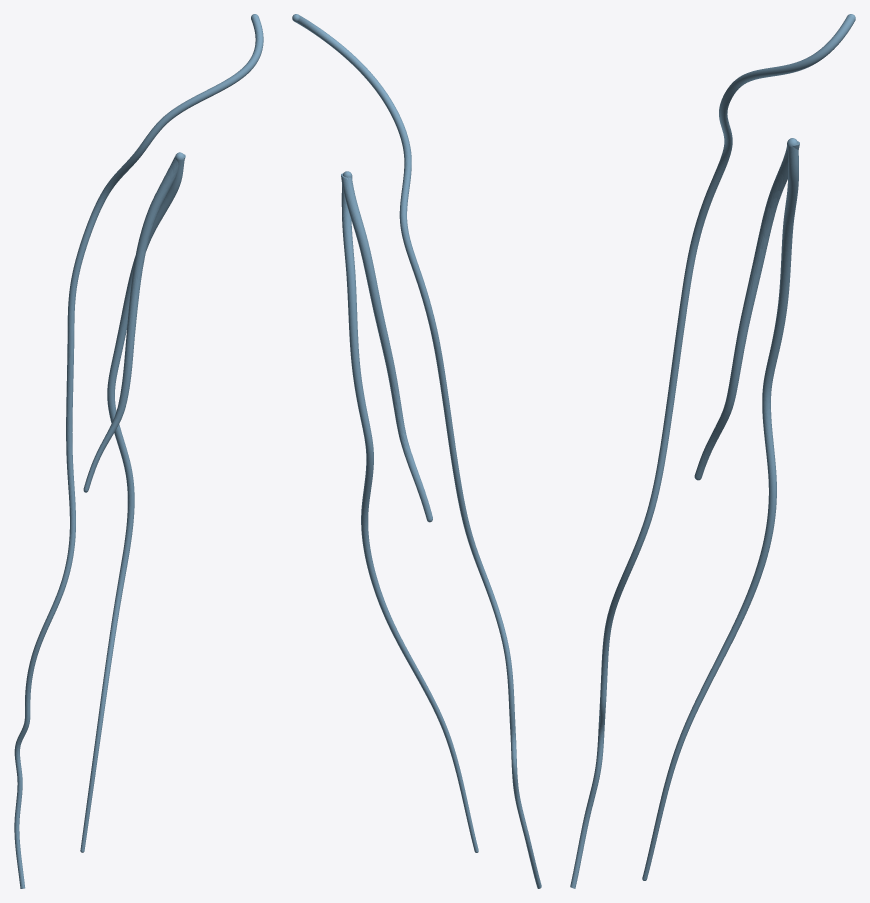
File: arm-vein.glb
3 renders of one model, left to right at view 1: azimuth 30°, elevation 25°; view 2: azimuth 150°, elevation 25°; view 3: azimuth 330°, elevation 25°, orthographic. The views are drawn at different scales.
Visible parts, largest first — view 1: cephalic-vein__BP5943, basilic-vein__BP5950, brachial-veins__BP5947; view 2: cephalic-vein__BP5943, basilic-vein__BP5950, brachial-veins__BP5947; view 3: cephalic-vein__BP5943, basilic-vein__BP5950, brachial-veins__BP5947.
Part boxes in pixels (x1,y1,x2,y2): cephalic-vein__BP5943: (14,14,263,888); basilic-vein__BP5950: (80,152,184,852); brachial-veins__BP5947: (83,154,185,492); cephalic-vein__BP5943: (292,14,541,888); basilic-vein__BP5950: (341,171,478,852); brachial-veins__BP5947: (341,173,432,522); cephalic-vein__BP5943: (570,14,855,888); basilic-vein__BP5950: (642,138,798,880); brachial-veins__BP5947: (694,141,799,480).
Size of the model in its own units: 1.72 by 5.52 by 0.689.
